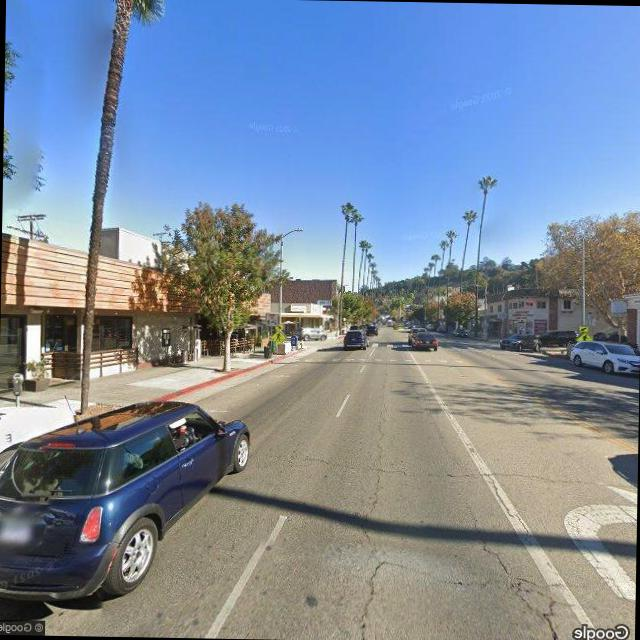crack: (456, 482, 568, 640), (302, 449, 618, 492), (357, 402, 397, 640)
